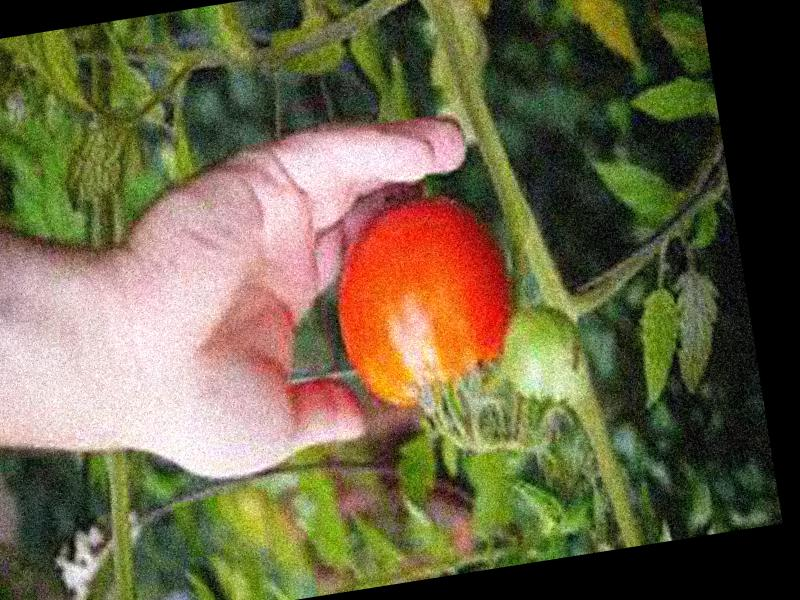Tomato: (322, 187, 531, 420)
